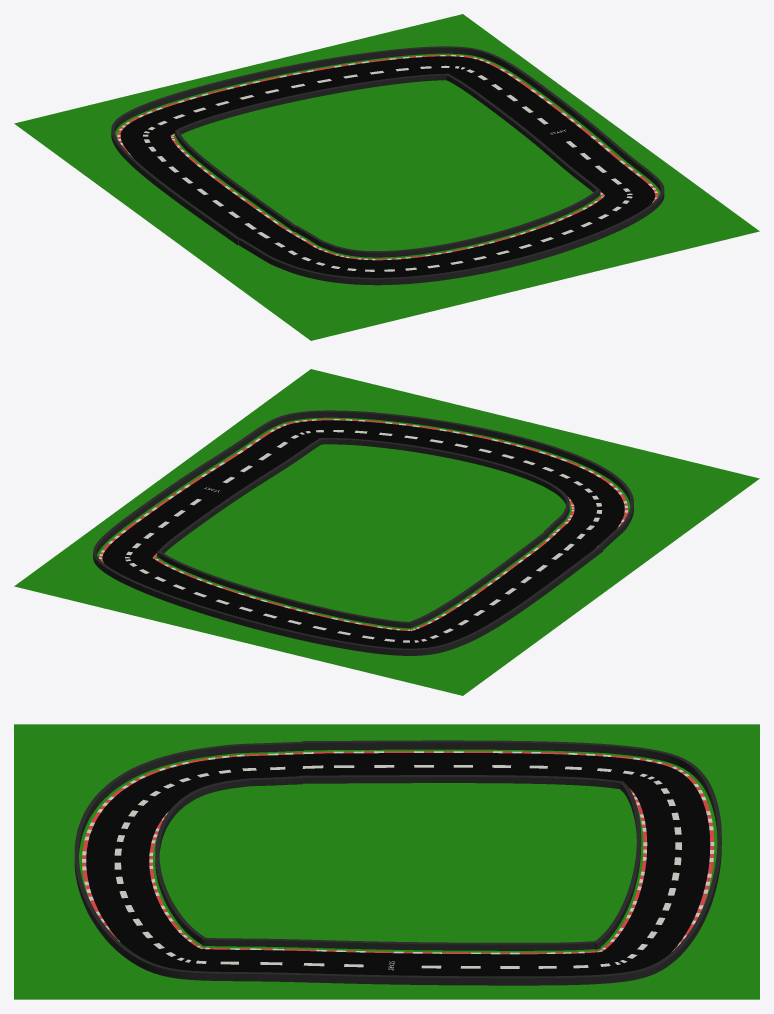
The model's file is racetrack_new.gltf.
3 views of the same model, one above another, from view 1: azimuth 30°, elevation 25°; view 2: azimuth 150°, elevation 25°; view 3: azimuth 270°, elevation 25° (orthographic). The views are drawn at different scales.
Parts seen in each view (by area): view 1: Plane.001, Plane, Cube_Cube.002, Cube.001_Cube.003, Plane.002; view 2: Plane.001, Plane, Cube_Cube.002, Cube.001_Cube.003, Plane.002; view 3: Plane.001, Plane, Cube_Cube.002, Cube.001_Cube.003, Plane.002.
Part boxes in pixels (x1,y1,x2,y2): Plane.001: (14,14,759,340); Plane: (115,53,660,277); Cube_Cube.002: (111,46,664,285); Cube.001_Cube.003: (175,73,600,257); Plane.002: (530,123,585,142); Plane.001: (14,369,759,695); Plane: (97,417,630,648); Cube_Cube.002: (93,410,633,655); Cube.001_Cube.003: (157,438,569,628); Plane.002: (185,480,239,500); Plane.001: (14,724,759,999); Plane: (79,749,717,976); Cube_Cube.002: (74,740,721,985); Cube.001_Cube.003: (155,775,641,950); Plane.002: (371,953,410,975).
Bounding box in the file's own units: 137 × 2.06 × 158.
